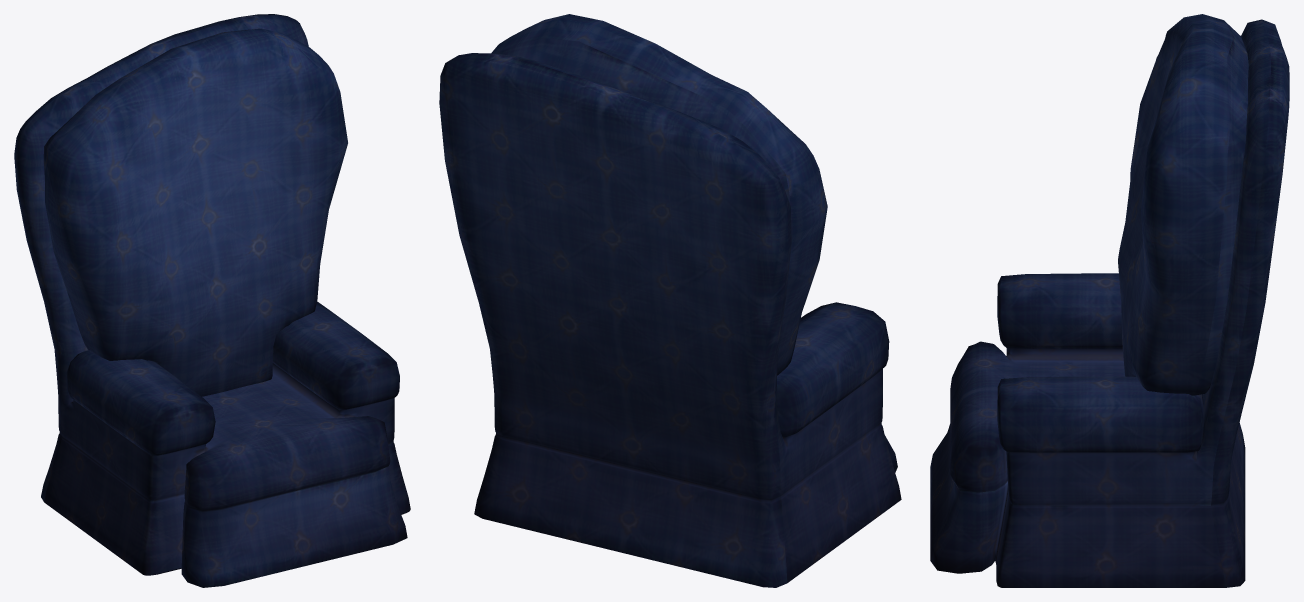
3 views of the same model, side by side, from view 1: azimuth 30°, elevation 25°; view 2: azimuth 150°, elevation 25°; view 3: azimuth 270°, elevation 25° (orthographic). The views are drawn at different scales.
Visible parts, largest first — view 1: nice_couch_04; view 2: nice_couch_04; view 3: nice_couch_04.
Boxes of the visible parts, x1,y1,x2,y2 form: nice_couch_04: [14, 14, 410, 587]; nice_couch_04: [439, 14, 901, 587]; nice_couch_04: [930, 14, 1289, 587].
Bounding box in the file's own units: 1.36 × 1.92 × 1.27.
1 material, 1 textured.
